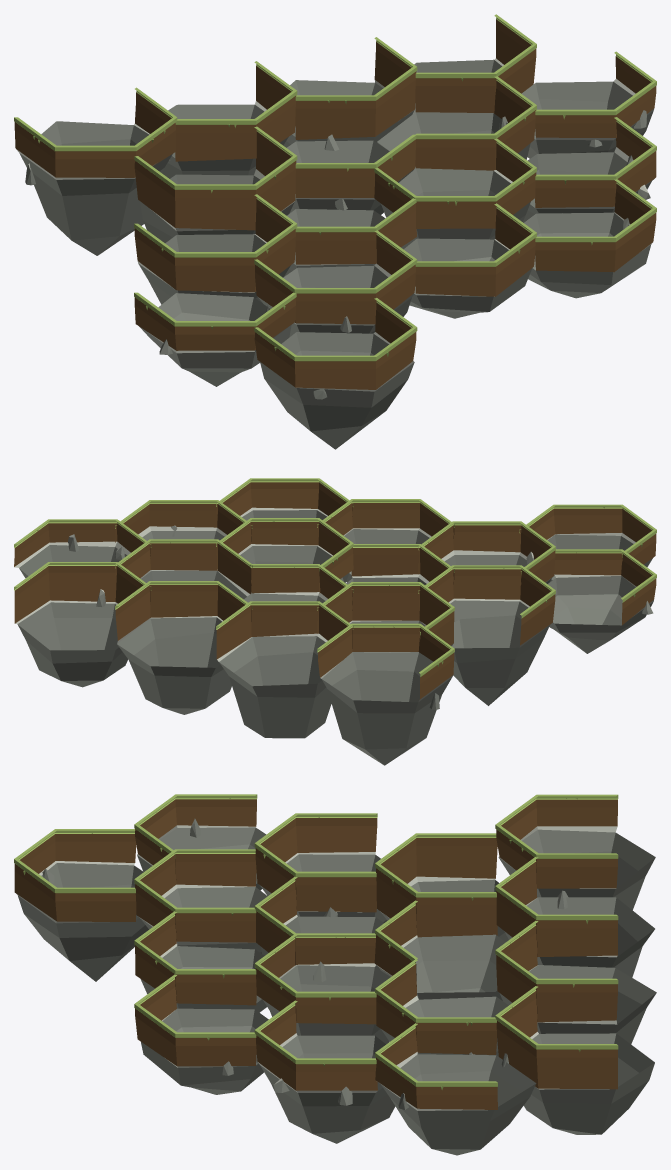
File: island_socket_right.glb
The picture shows the model from 3 angles, top to bottom: view 1: azimuth 30°, elevation 25°; view 2: azimuth 150°, elevation 25°; view 3: azimuth 270°, elevation 25°; orthographic projection. The views are drawn at different scales.
Visible parts, largest first — view 1: island_socket_right_mesh; view 2: island_socket_right_mesh; view 3: island_socket_right_mesh.
Boxes of the visible parts, x1=… form: island_socket_right_mesh: x1=14, y1=14, x2=656, y2=449; island_socket_right_mesh: x1=14, y1=478, x2=656, y2=765; island_socket_right_mesh: x1=14, y1=794, x2=656, y2=1155.
Size of the model in its own units: 9.68 by 2.38 by 8.82.
